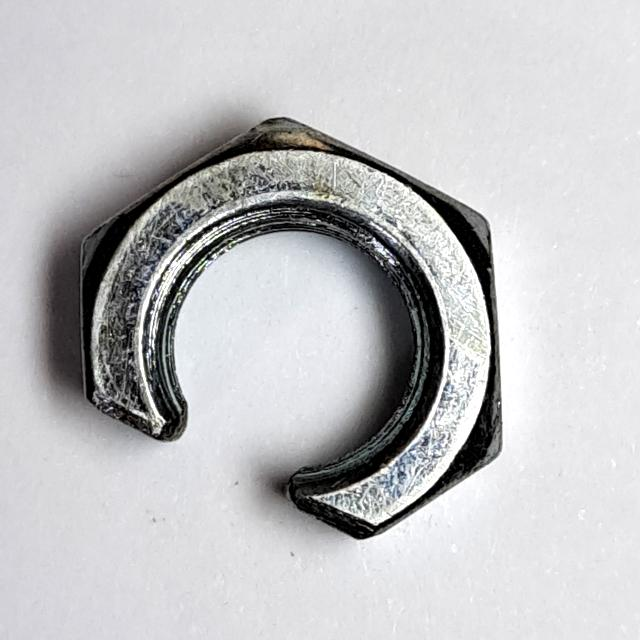Fracture: (60, 93, 529, 553)
